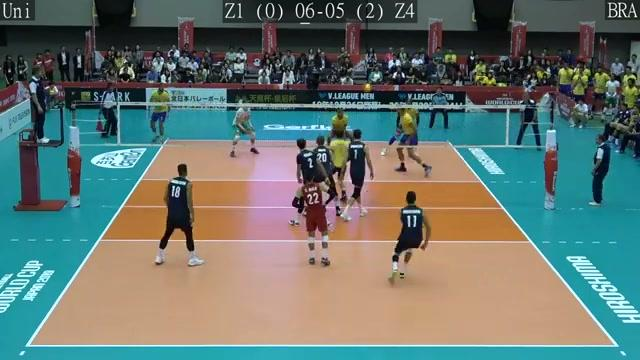ball: (362, 82, 375, 93)
